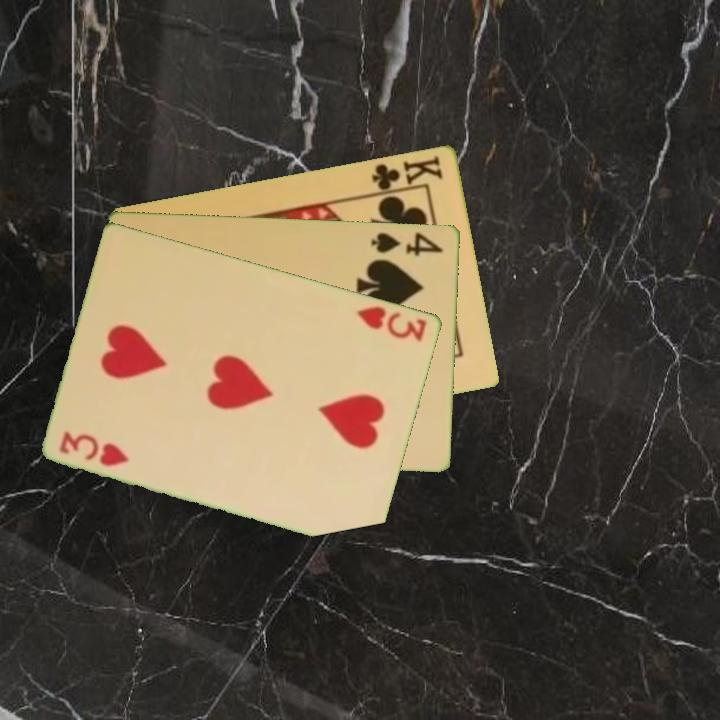3h: (353, 302, 430, 344), (56, 427, 133, 469)
4s: (368, 228, 446, 258)
Kc: (368, 152, 446, 197)
